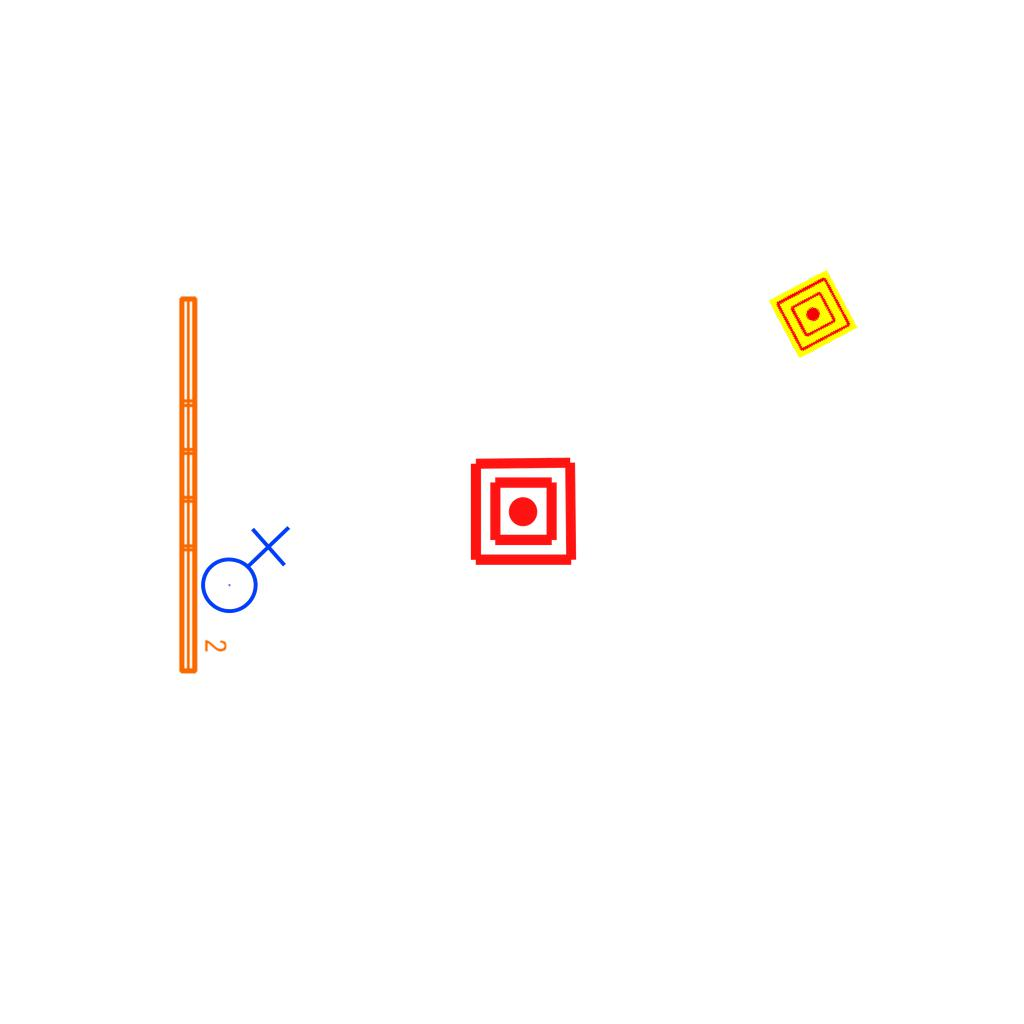Ambulanz_Pendelleuchte_LED: (173, 291, 229, 678)
Elektroanschluss_allgemein_230V_Geraeteanschlussdose_230V: (192, 521, 291, 615)
NAM-Nichtautomatischer_Melder: (467, 455, 580, 568), (768, 269, 858, 359)
